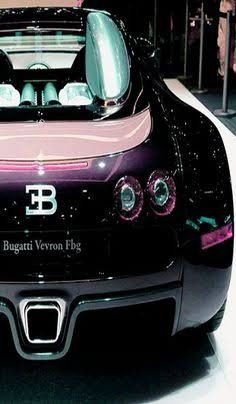car: (1, 7, 236, 374), (3, 4, 236, 372), (2, 1, 233, 371)
